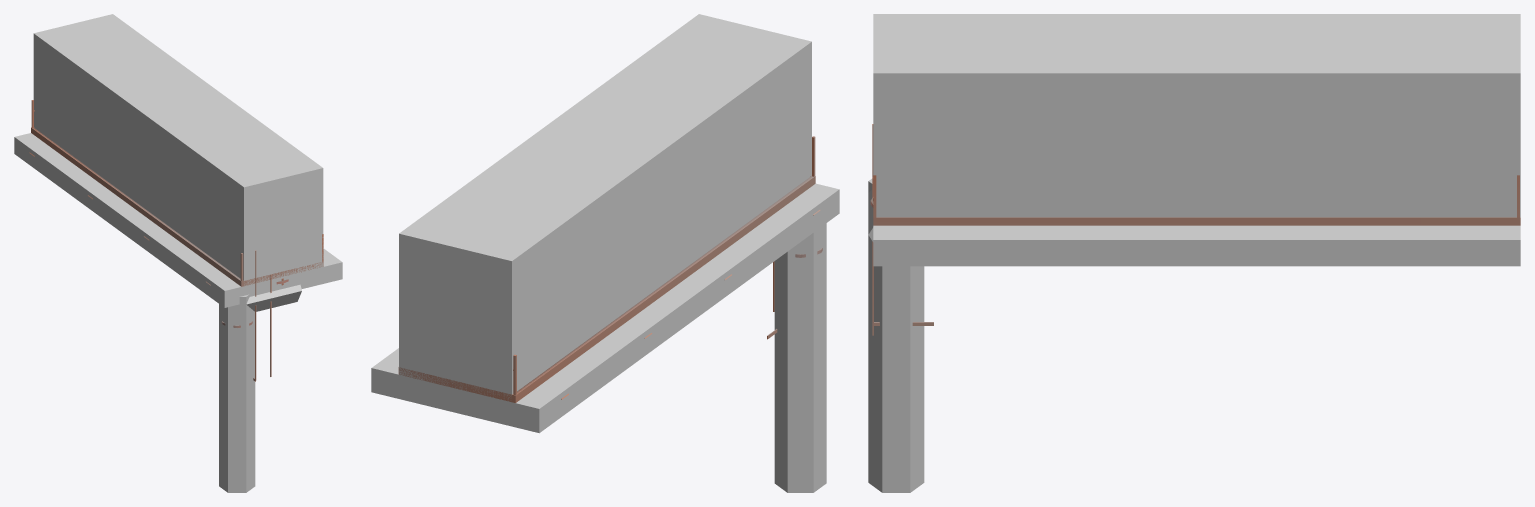
Rendered from billboard_structure1.dae.
3 views of the same model, side by side, from view 1: azimuth 30°, elevation 25°; view 2: azimuth 150°, elevation 25°; view 3: azimuth 270°, elevation 25° (orthographic). The views are drawn at different scales.
Visible parts, largest first — view 1: Colmesh-1, billboard_structure1_a400; view 2: Colmesh-1, billboard_structure1_a400; view 3: Colmesh-1, billboard_structure1_a400.
Part boxes in pixels (<box>): Colmesh-1: <box>14,14,342,492</box>; billboard_structure1_a400: <box>29,100,323,381</box>; Colmesh-1: <box>371,14,839,492</box>; billboard_structure1_a400: <box>398,136,822,402</box>; Colmesh-1: <box>868,14,1520,492</box>; billboard_structure1_a400: <box>870,124,1520,335</box>.
Bounding box in the file's own units: 4.51 × 14 × 11.09.
